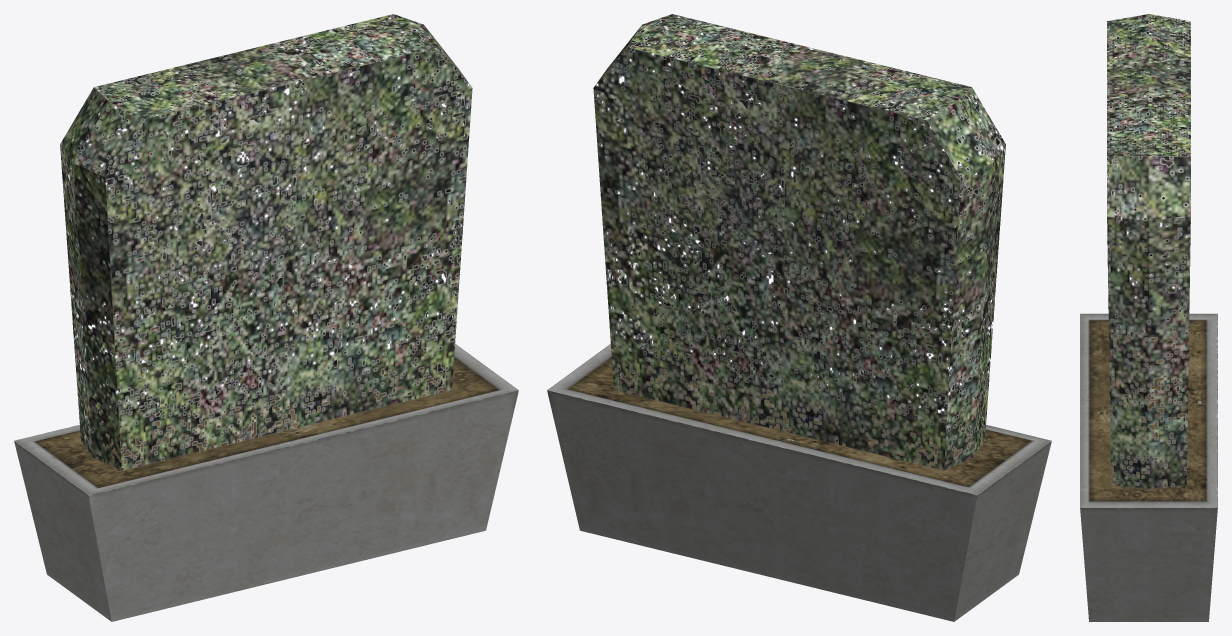
File: PottedHedge01.obj
3 views of the same model, side by side, from view 1: azimuth 30°, elevation 25°; view 2: azimuth 150°, elevation 25°; view 3: azimuth 270°, elevation 25° (orthographic). The views are drawn at different scales.
Visible parts, largest first — view 1: PottedHedge01; view 2: PottedHedge01; view 3: PottedHedge01.
Part boxes in pixels (x1,y1,x2,y2): PottedHedge01: (14,14,518,621); PottedHedge01: (547,14,1051,621); PottedHedge01: (1080,14,1217,621).
Size of the model in its own units: 2.3 by 2.5 by 0.69.
